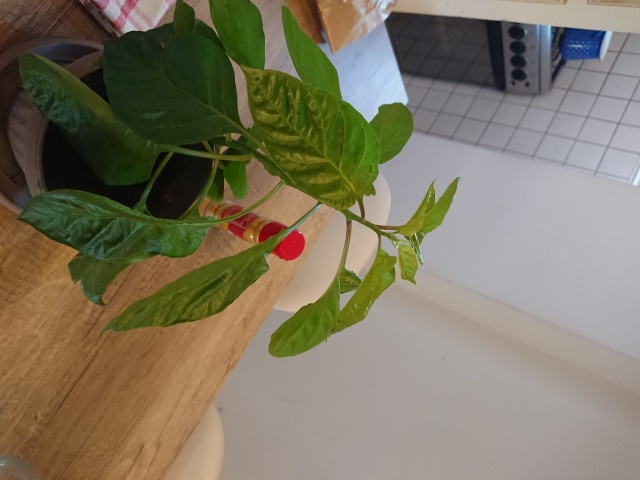Kotanyi Curry Spices Mix 70g: (200, 196, 307, 263)
